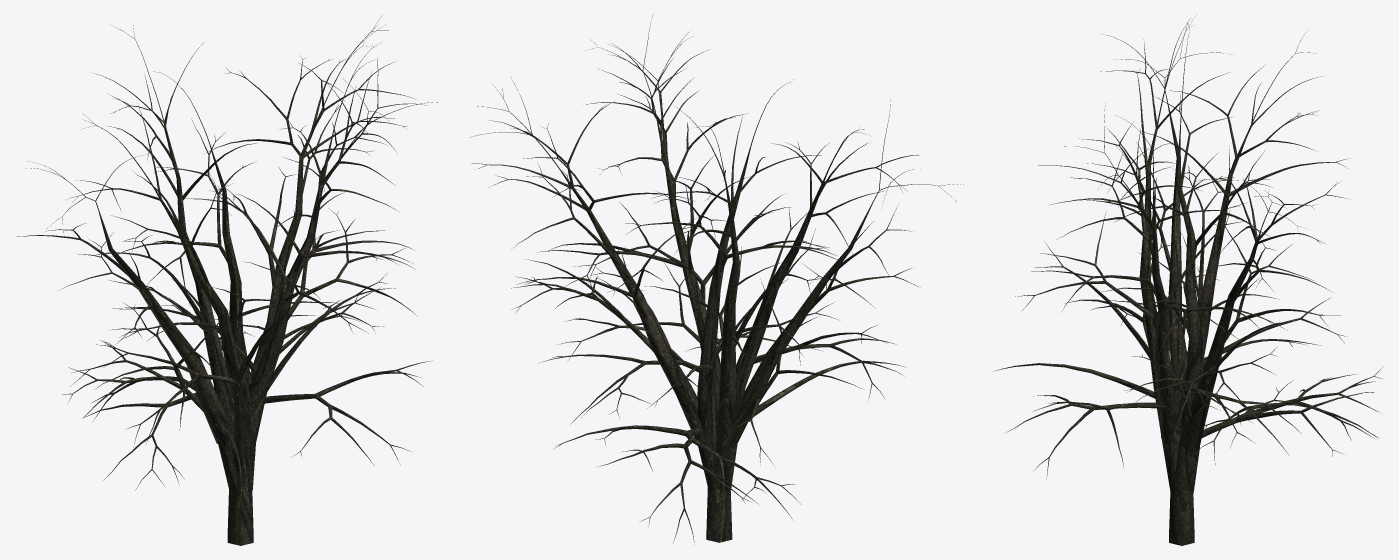
Rendered from Tree3.glb.
The picture shows the model from 3 angles, left to right: view 1: azimuth 30°, elevation 25°; view 2: azimuth 150°, elevation 25°; view 3: azimuth 270°, elevation 25°; orthographic projection.
Visible parts, largest first — view 1: tree; view 2: tree; view 3: tree.
Boxes of the visible parts, x1=… form: tree: x1=17, y1=16, x2=437, y2=545; tree: x1=471, y1=14, x2=963, y2=544; tree: x1=994, y1=16, x2=1383, y2=545.
Size of the model in its own units: 13.01 by 14.55 by 10.79.
1 material, 1 textured.
